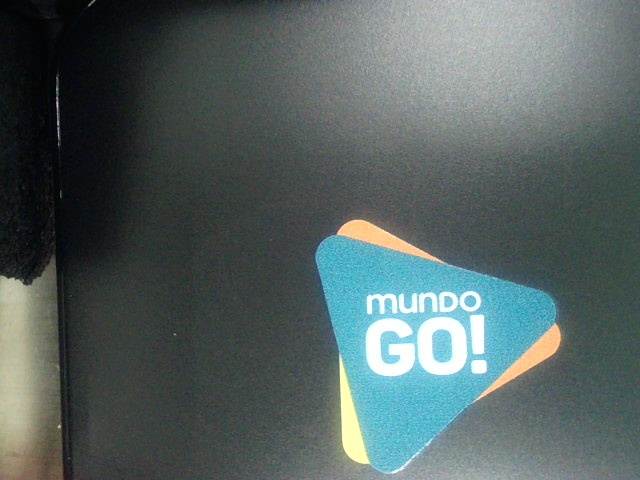AP_IPGMundoGO: (288, 211, 574, 468)
